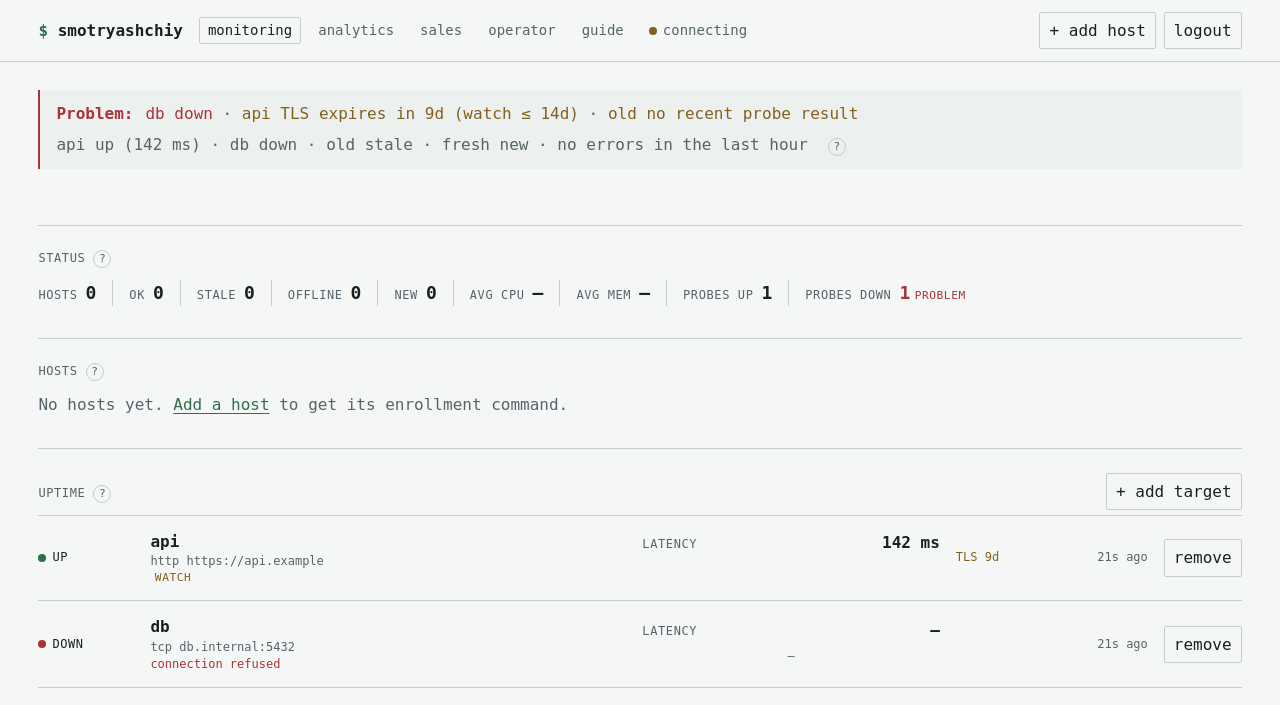
Scenario: removing a target › shows the failure and keeps the row when the server refuses
Click the button with aria-label "Remove api".
click(1203, 558)  # box x1=1164 y1=539 x2=1242 y2=577
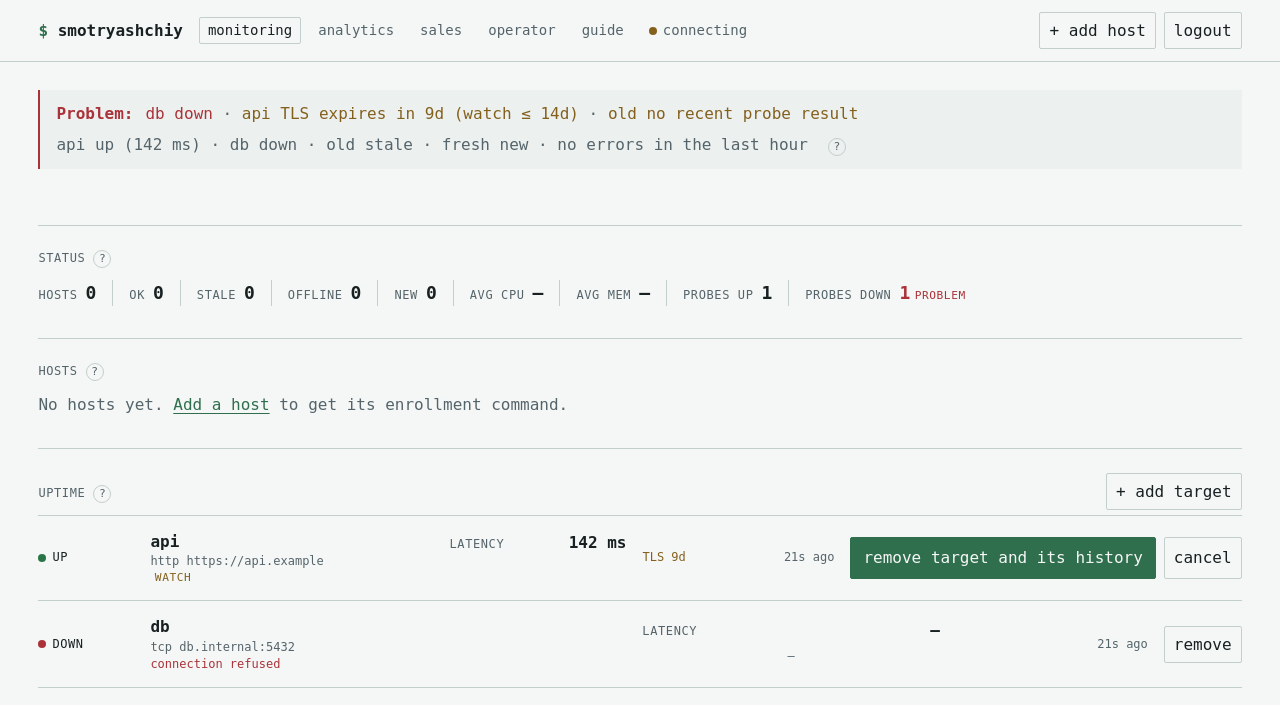
Click the button "remove target and its history".
click(1003, 558)  # box x1=850 y1=537 x2=1156 y2=579
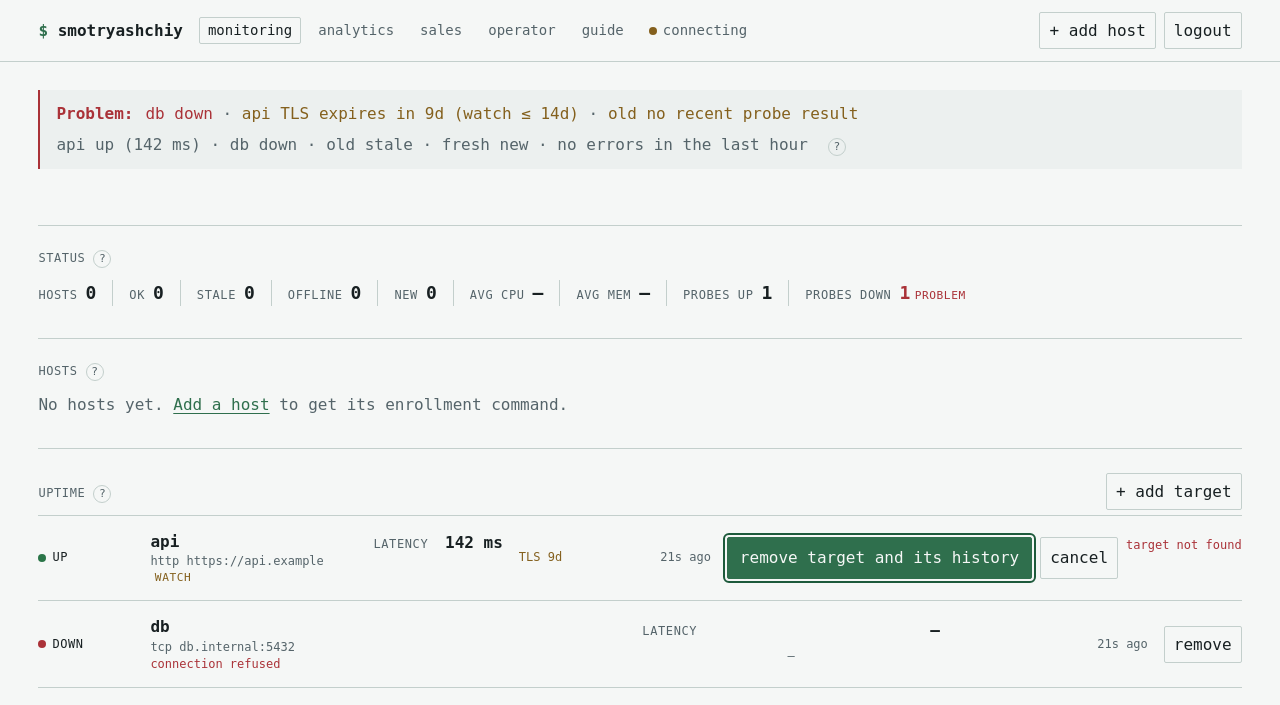
Expected: the text "api" is shown, x1=150 y1=532 x2=179 y2=550
Result: the message "target not found" is shown at x1=1126 y1=538 x2=1242 y2=552
